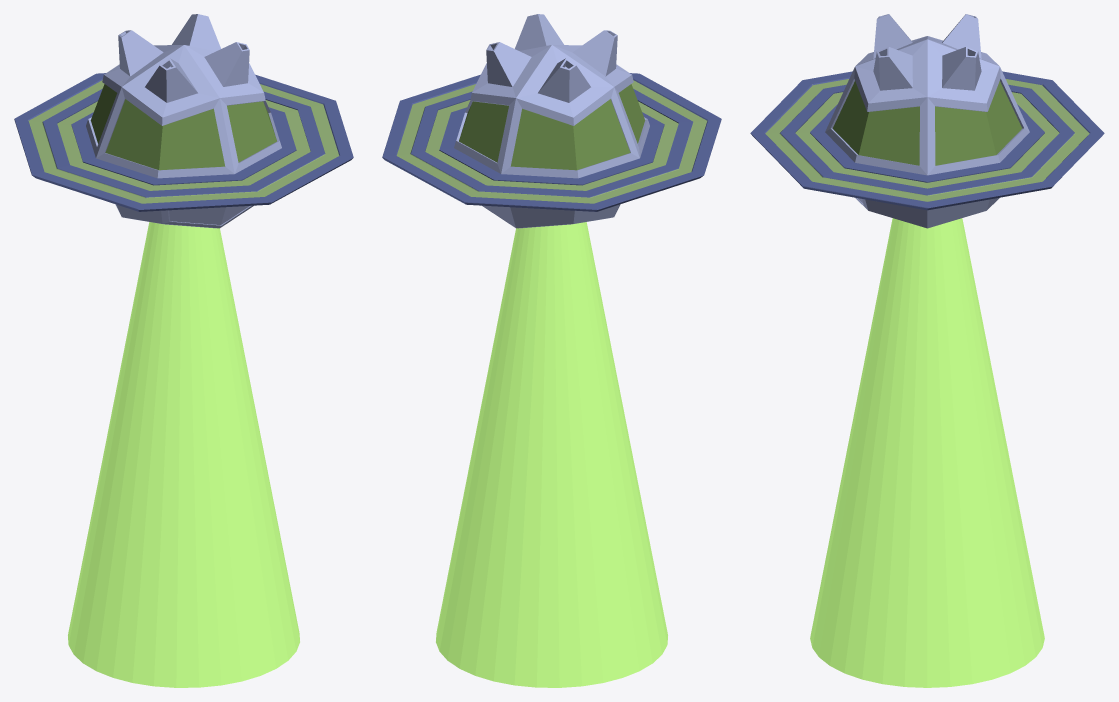
File: UFO.glb
3 renders of one model, left to right at view 1: azimuth 30°, elevation 25°; view 2: azimuth 150°, elevation 25°; view 3: azimuth 270°, elevation 25°, orthographic.
Parts seen in each view (by area): view 1: Cone, Cube, Cube.001; view 2: Cone, Cube, Cube.001; view 3: Cone, Cube, Cube.001.
Boxes of the visible parts, left/top/right/bottom form: Cone: left=68, top=222, right=299, bottom=687; Cube: left=86, top=14, right=281, bottom=228; Cube.001: left=14, top=73, right=353, bottom=211; Cone: left=436, top=222, right=667, bottom=687; Cube: left=454, top=14, right=649, bottom=228; Cube.001: left=382, top=73, right=721, bottom=211; Cone: left=810, top=218, right=1044, bottom=687; Cube: left=825, top=14, right=1029, bottom=228; Cube.001: left=750, top=71, right=1104, bottom=210.
Size of what is drawn, in the model's own units: 5.62 by 10.64 by 5.62.
